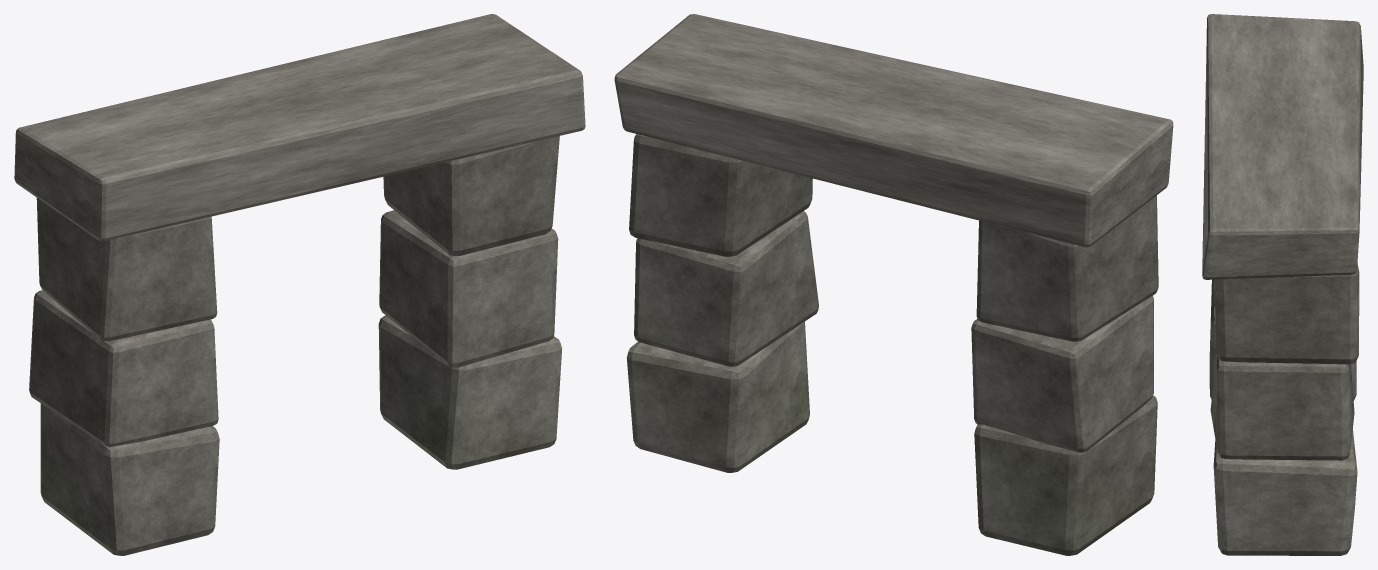
File: 04_Stone_Doorway.glb
3 views of the same model, side by side, from view 1: azimuth 30°, elevation 25°; view 2: azimuth 150°, elevation 25°; view 3: azimuth 270°, elevation 25° (orthographic). The views are drawn at different scales.
Parts seen in each view (by area): view 1: 04_Stone_Doorway; view 2: 04_Stone_Doorway; view 3: 04_Stone_Doorway.
Part boxes in pixels (left/top/right/bottom): 04_Stone_Doorway: left=14, top=14, right=585, bottom=555; 04_Stone_Doorway: left=614, top=14, right=1173, bottom=555; 04_Stone_Doorway: left=1202, top=14, right=1363, bottom=555.
Size of the model in its own units: 3.22 by 2.45 by 1.04.
1 material, 1 textured.
